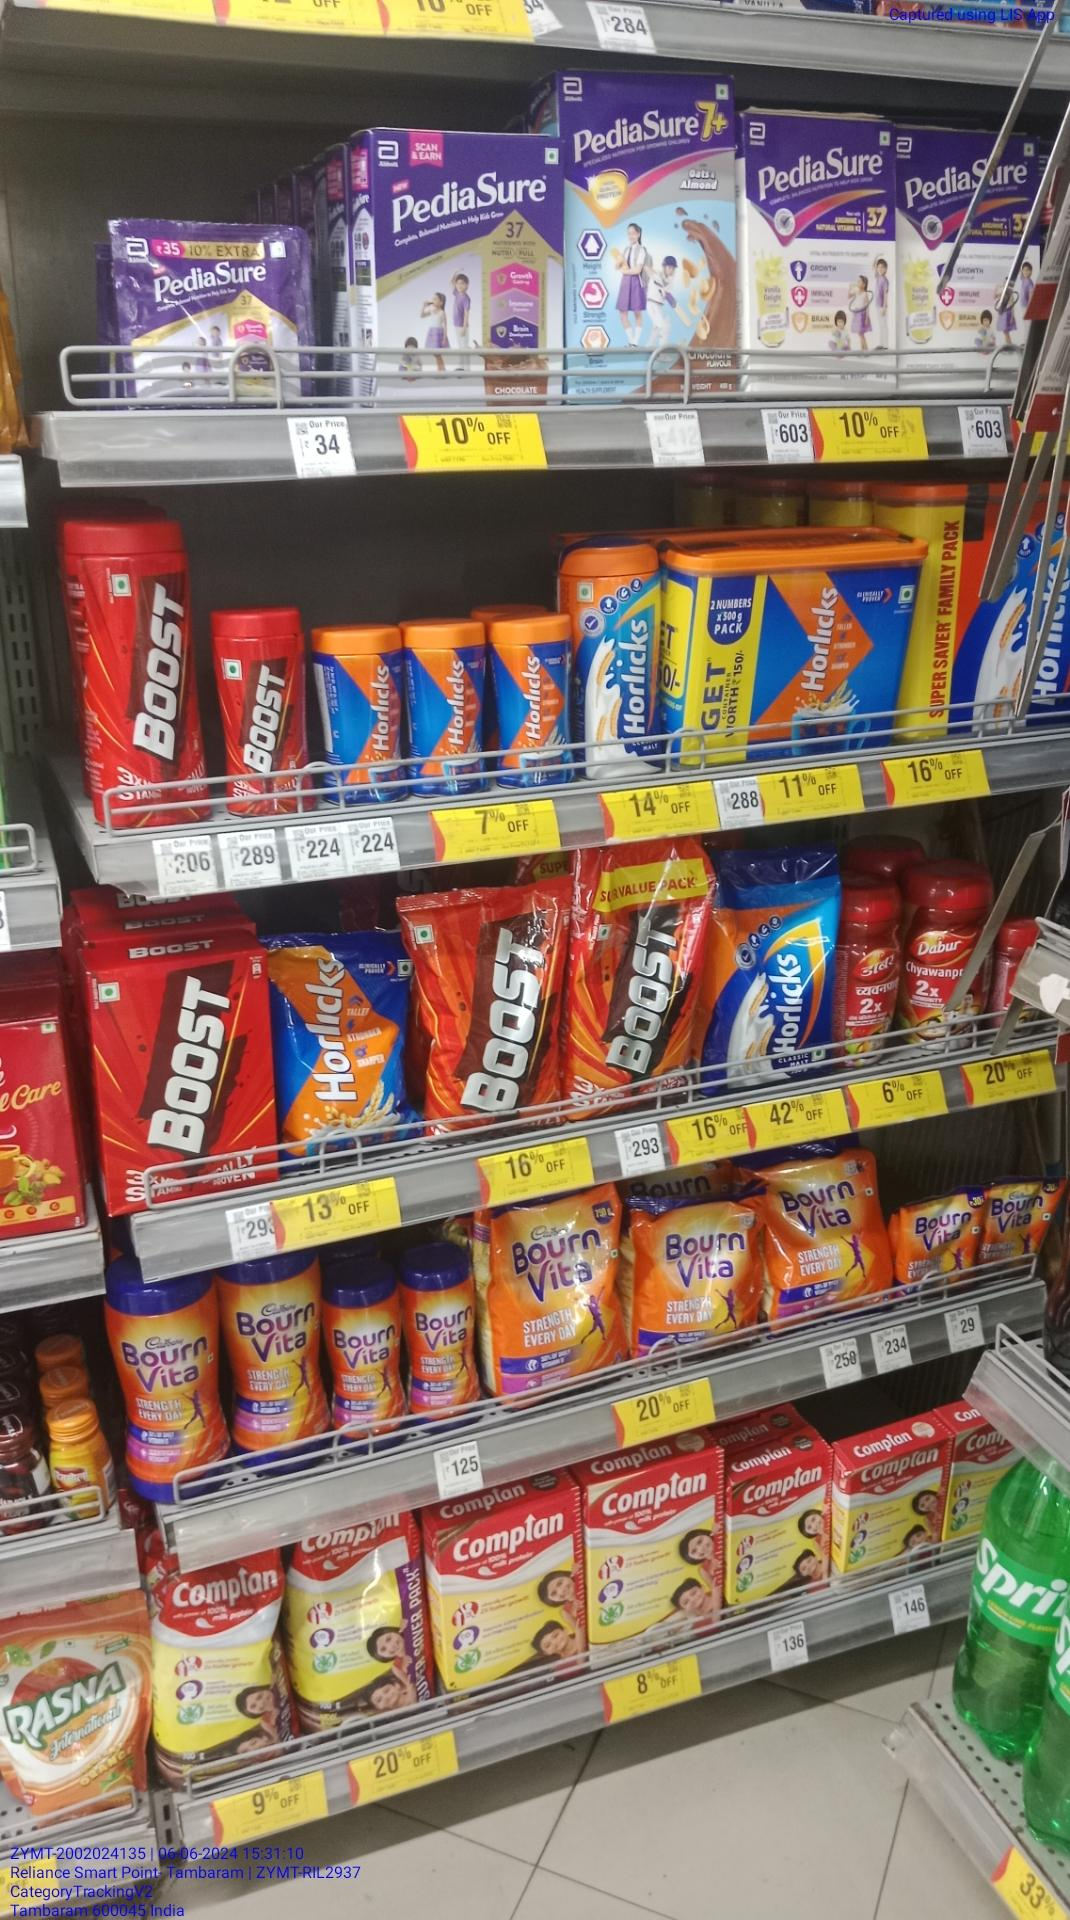BOURN_VITA_1_KG_JAR: (112, 1269, 220, 1498), (224, 1262, 327, 1476)
BOURN_VITA_500_G_JAR: (405, 1243, 481, 1435), (329, 1257, 402, 1447)
BOURN_VITA_500_G_POUCH: (631, 1189, 768, 1356), (770, 1148, 883, 1318)
BOURN_VITA_750_G_POUCH: (494, 1191, 623, 1388)
BOURN_VITA_75_G_POUCH: (900, 1187, 979, 1299), (980, 1174, 1057, 1278)
COMPLAN_CHOCOLATE_200_GMS_PACK: (730, 1448, 828, 1616), (845, 1444, 949, 1583)
COMPLAN_RC_POUCH_700_GMS_12: (153, 1563, 287, 1780), (296, 1523, 428, 1738)
HORLICK_CLASSIC_MALT_200_G_JAR: (320, 626, 405, 805), (408, 626, 485, 796), (493, 613, 565, 781)
HORLICK_CLASSIC_MALT_500_G_JAR: (573, 538, 659, 775)
HORLICK_CLASSIC_MALT_750_G_POUCH: (712, 855, 831, 1073)
HORLICK_MALT_1_KG_CONTAINER: (667, 528, 903, 756)
